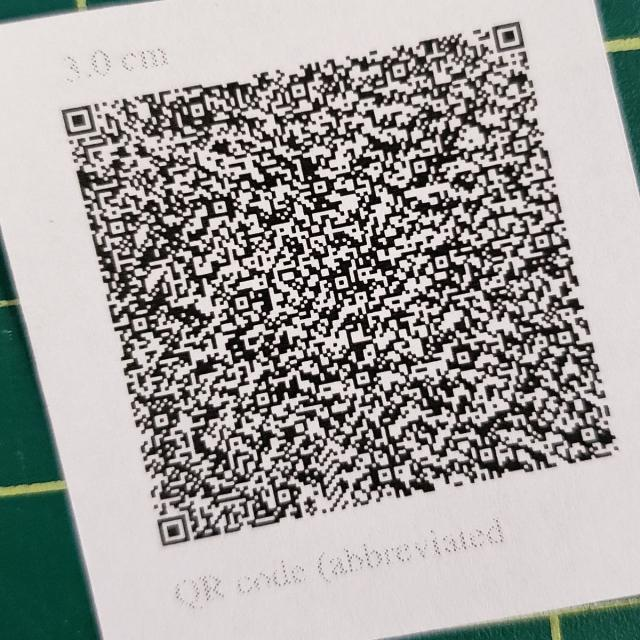QR_CODE: (39, 5, 632, 559)
